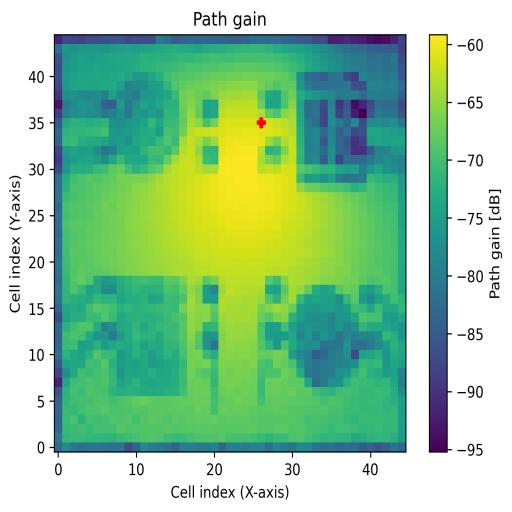Concrete: (296, 71, 367, 183)
Glass: (116, 73, 186, 173)
Metal: (288, 284, 374, 388)
Wood: (116, 275, 187, 396)
